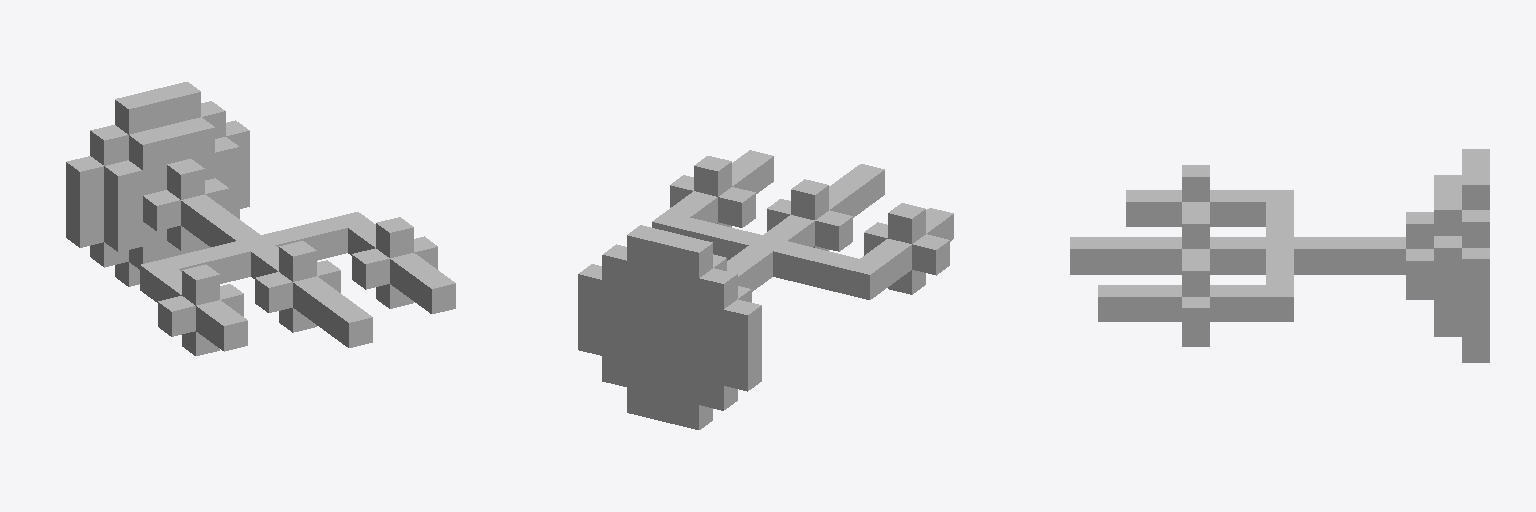
Rendered from candelabro.obj.
The picture shows the model from 3 angles: view 1: azimuth 30°, elevation 25°; view 2: azimuth 150°, elevation 25°; view 3: azimuth 270°, elevation 25°; orthographic projection.
Visible parts, largest first — view 1: candelabro; view 2: candelabro; view 3: candelabro.
Part boxes in pixels (x1,y1,x2,y2): candelabro: (66,82,455,355); candelabro: (578,150,953,429); candelabro: (1070,149,1489,362).
Bounding box in the file's own units: 55 × 35 × 75.